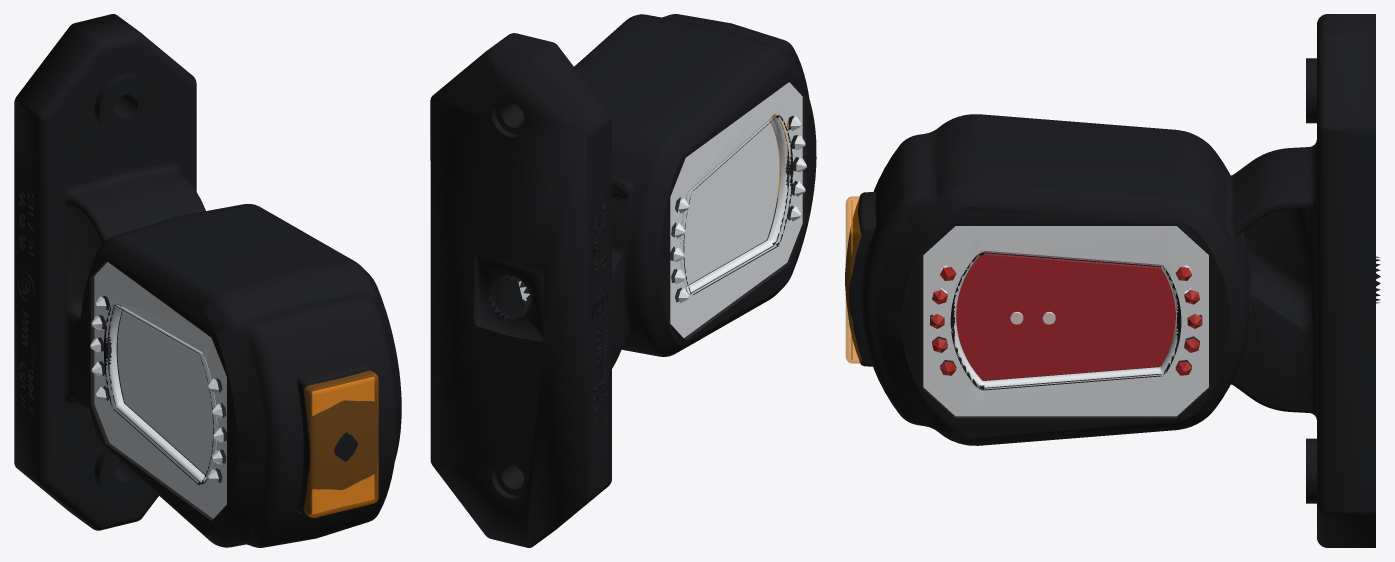
File: lamp-ldcc2776.glb
3 renders of one model, left to right at view 1: azimuth 30°, elevation 25°; view 2: azimuth 150°, elevation 25°; view 3: azimuth 270°, elevation 25°, orthographic. The views are drawn at different scales.
Parts seen in each view (by area): view 1: BODY, INNER, LENS, EMIT.outline; view 2: BODY, INNER, EMIT.outline, LENS; view 3: BODY, INNER, EMIT.outline, LENS.
Boxes of the visible parts, x1=… form: BODY: x1=14, y1=14, x2=401, y2=547; INNER: x1=94, y1=262, x2=226, y2=518; LENS: x1=117, y1=307, x2=378, y2=517; EMIT.outline: x1=90, y1=296, x2=374, y2=514; BODY: x1=430, y1=14, x2=816, y2=547; INNER: x1=518, y1=82, x2=802, y2=337; EMIT.outline: x1=673, y1=114, x2=806, y2=303; LENS: x1=680, y1=118, x2=788, y2=289; BODY: x1=845, y1=14, x2=1380, y2=547; INNER: x1=923, y1=226, x2=1208, y2=416; EMIT.outline: x1=851, y1=200, x2=1202, y2=375; LENS: x1=845, y1=196, x2=1190, y2=363.
Bounding box in the file's own units: 0.04 × 0.1053 × 0.0995.
